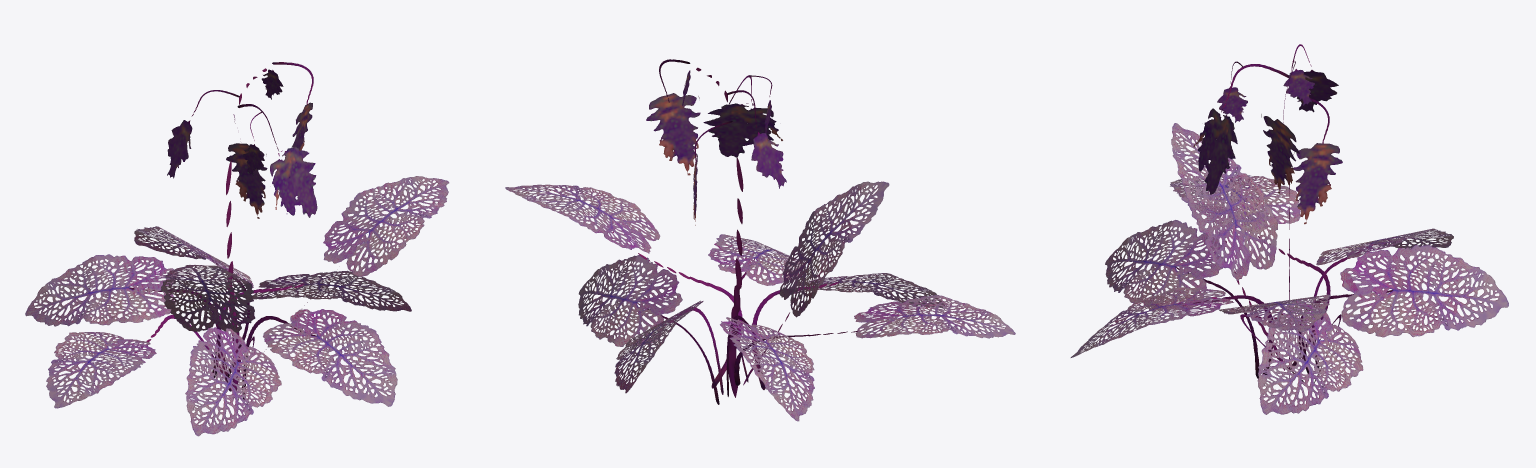
The model's file is Spin Reef C5.fbx.
3 renders of one model, left to right at view 1: azimuth 30°, elevation 25°; view 2: azimuth 150°, elevation 25°; view 3: azimuth 270°, elevation 25°, orthographic. The views are drawn at different scales.
Visible parts, largest first — view 1: Spin Reef C5; view 2: Spin Reef C5; view 3: Spin Reef C5.
Boxes of the visible parts, left/top/right/bottom form: Spin Reef C5: left=25, top=62, right=449, bottom=436; Spin Reef C5: left=505, top=59, right=1015, bottom=421; Spin Reef C5: left=1070, top=44, right=1508, bottom=414.
Size of the model in its own units: 242 by 207 by 190.
